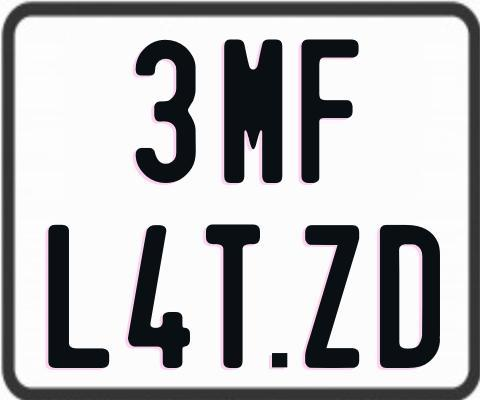3: (133, 40, 196, 184)
4: (126, 224, 190, 373)
D: (378, 222, 439, 365)
F: (299, 40, 362, 189)
L: (45, 225, 112, 374)
M: (222, 40, 280, 183)
T: (205, 222, 262, 365)
Z: (303, 224, 359, 368)
